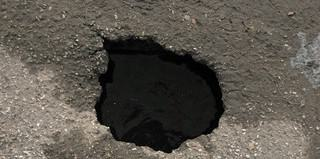Spalling: (94, 28, 228, 154)
